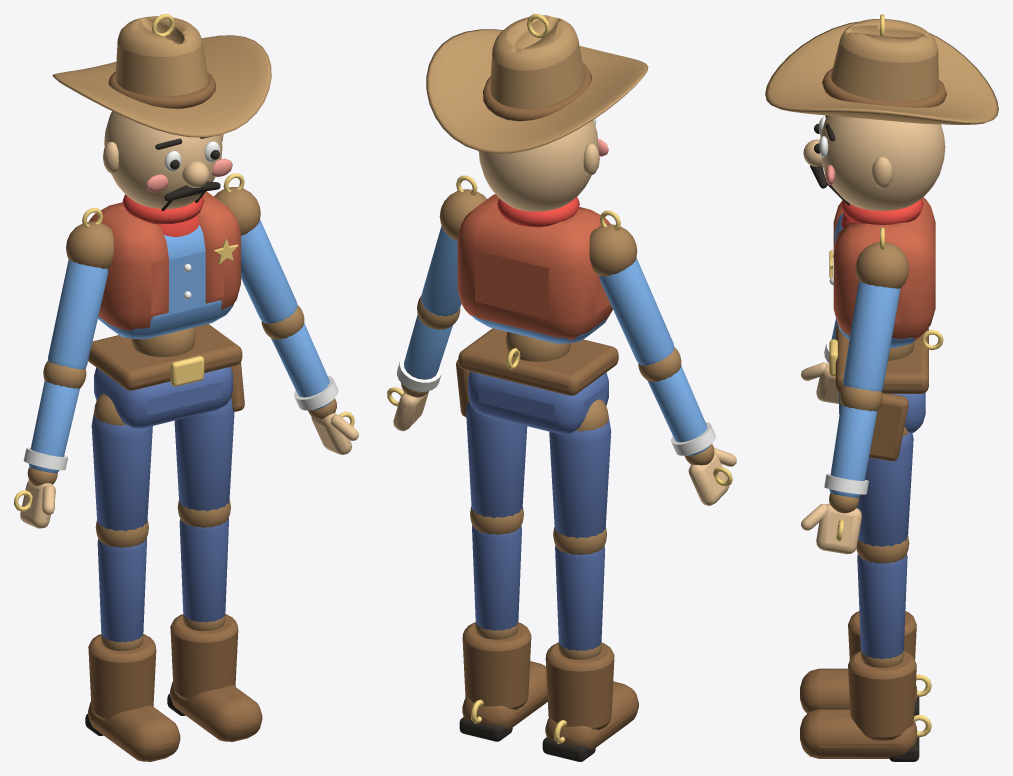
Rendered from Kovboy.fbx.
3 renders of one model, left to right at view 1: azimuth 30°, elevation 25°; view 2: azimuth 150°, elevation 25°; view 3: azimuth 270°, elevation 25°, orthographic.
Visible parts, largest first — view 1: Head__R_C49B69_16, UpperTorso__R_CE694B_8, LeftFoot__R_956C45_35, RightFoot__R_956C45_42, Head__R_EDC899_14, RightUpperLeg__R_617CB8_39, LeftUpperLeg__R_617CB8_32, LowerTorso__R_956C45_0, LowerTorso__R_617CB8_3, UpperTorso__R_7CB3F1_6, LeftLowerLeg__R_617CB8_34, RightLowerLeg__R_617CB8_41 (+20 smaller); view 2: Head__R_C49B69_16, UpperTorso__R_CE694B_8, RightFoot__R_956C45_42, Head__R_EDC899_14, LeftFoot__R_956C45_35, RightUpperLeg__R_617CB8_39, LowerTorso__R_956C45_0, LeftUpperLeg__R_617CB8_32, LowerTorso__R_617CB8_3, LeftLowerLeg__R_617CB8_34, RightLowerLeg__R_617CB8_41, RightUpperArm__R_7CB3F1_25 (+18 smaller); view 3: Head__R_C49B69_16, Head__R_EDC899_14, LeftFoot__R_956C45_35, UpperTorso__R_CE694B_8, LeftLowerLeg__R_617CB8_34, LeftUpperArm__R_7CB3F1_18, LeftUpperLeg__R_617CB8_32, LowerTorso__R_956C45_0, RightFoot__R_956C45_42, LeftLowerArm__R_7CB3F1_20, UpperTorso__R_AD8659_5, LeftHand__R_EDC899_23 (+11 smaller).
Part boxes in pixels (x1,y1,x2,y2): Head__R_C49B69_16: (52,16,271,137); UpperTorso__R_CE694B_8: (89,191,240,330); LeftFoot__R_956C45_35: (170,614,262,741); RightFoot__R_956C45_42: (88,634,180,761); Head__R_EDC899_14: (103,111,223,208); RightUpperLeg__R_617CB8_39: (91,413,152,531); LeftUpperLeg__R_617CB8_32: (174,397,234,511); LowerTorso__R_956C45_0: (88,324,244,411); LowerTorso__R_617CB8_3: (94,367,232,428); UpperTorso__R_7CB3F1_6: (98,225,233,339); LeftLowerLeg__R_617CB8_34: (179,518,228,622); RightLowerLeg__R_617CB8_41: (97,538,146,642); Head__R_C49B69_16: (426,15,648,153); UpperTorso__R_CE694B_8: (457,194,612,339); RightFoot__R_956C45_42: (545,642,638,749); Head__R_EDC899_14: (478,120,599,211); LeftFoot__R_956C45_35: (462,622,547,729); RightUpperLeg__R_617CB8_39: (549,418,611,538); LowerTorso__R_956C45_0: (456,328,618,417); LeftUpperLeg__R_617CB8_32: (466,401,527,518); LowerTorso__R_617CB8_3: (468,371,608,434); LeftLowerLeg__R_617CB8_34: (472,525,521,630); RightLowerLeg__R_617CB8_41: (555,545,605,651); RightUpperArm__R_7CB3F1_25: (599,257,674,365); Head__R_C49B69_16: (765,19,998,124); Head__R_EDC899_14: (803,115,945,210); LeftFoot__R_956C45_35: (800,651,916,758); UpperTorso__R_CE694B_8: (833,197,935,339); LeftLowerLeg__R_617CB8_34: (857,554,907,658); LeftUpperArm__R_7CB3F1_18: (843,281,900,391); LeftUpperLeg__R_617CB8_32: (856,432,913,546); LowerTorso__R_956C45_0: (835,324,928,461); RightFoot__R_956C45_42: (800,611,916,713); LeftLowerArm__R_7CB3F1_20: (829,405,877,497); UpperTorso__R_AD8659_5: (855,242,909,288); LeftHand__R_EDC899_23: (801,503,861,554).
Size of the model in its own units: 275 by 550 by 162.
